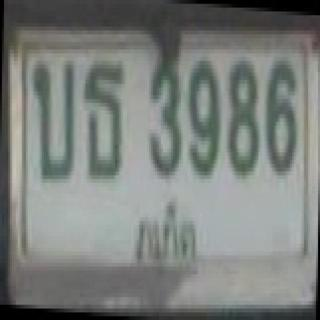A24: (79, 56, 134, 180)
A26: (31, 56, 82, 180)
N03: (146, 56, 180, 180)
N06: (261, 57, 304, 175)
N08: (225, 56, 261, 177)
N09: (185, 54, 225, 179)
P48: (133, 197, 200, 261)
